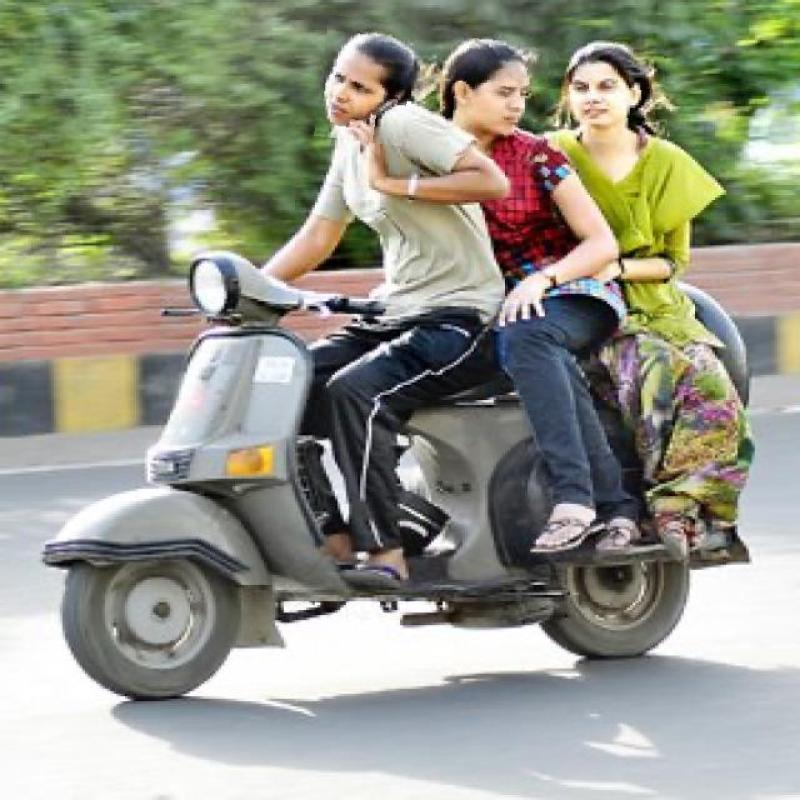nohelmet: (447, 34, 548, 160), (318, 18, 412, 144), (566, 31, 666, 149)
